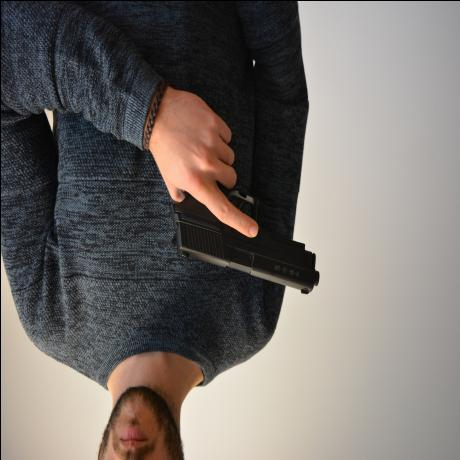1: (0, 2, 313, 460)
weapon: (174, 107, 320, 293)
